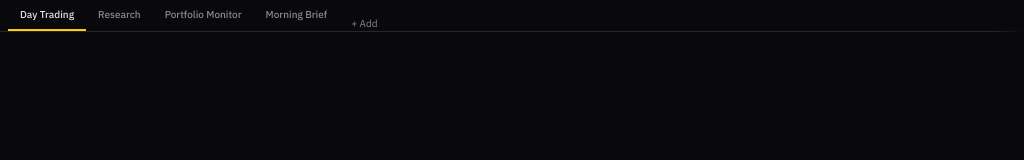
Scenario: WorkspaceTabs — rename › renames the workspace when user types and presses Enter
This screenshot has width=1024, height=160.
Double-click the tab with aria-label "Workspace: Day Trading" at (47, 16), box [8,0,86,31]
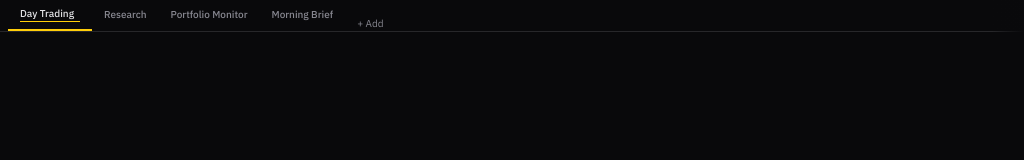
Replace the text in the field named "Rename workspace" with "Scalping" at (50, 14), box [20,7,80,22]
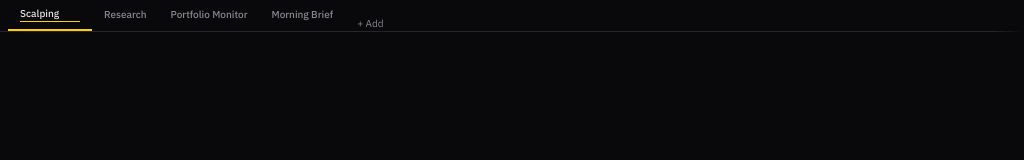
Press Enter
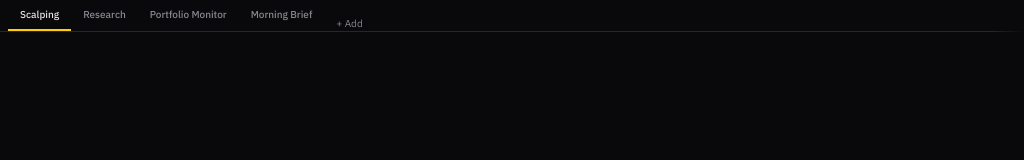
Expected: the tab "Day Trading" is not shown
Expected: the tab "Scalping" is shown, [8,0,71,31]
